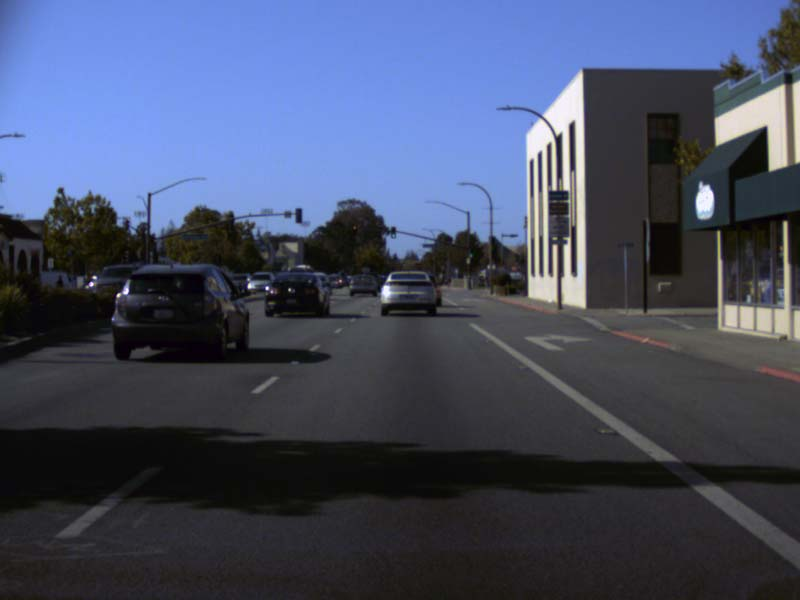Green: (467, 246, 473, 258), (390, 226, 395, 238)
Red: (352, 225, 356, 235)
